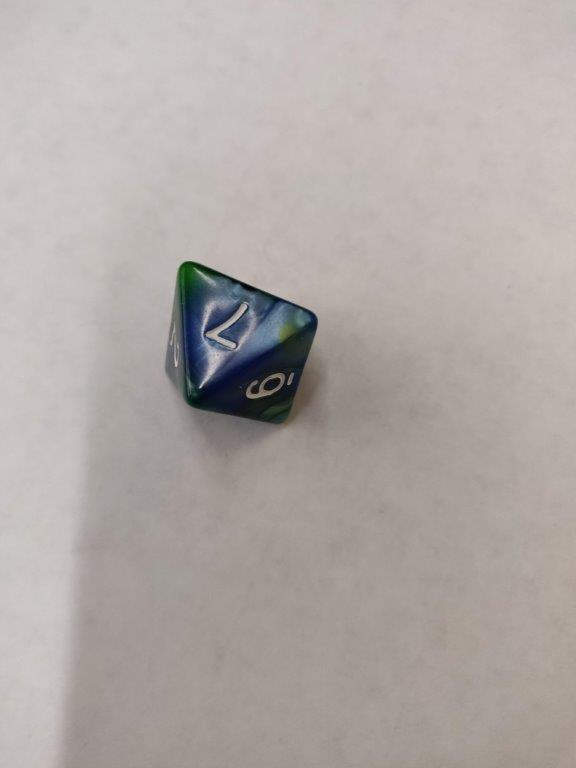d8-7: (164, 259, 319, 427)
